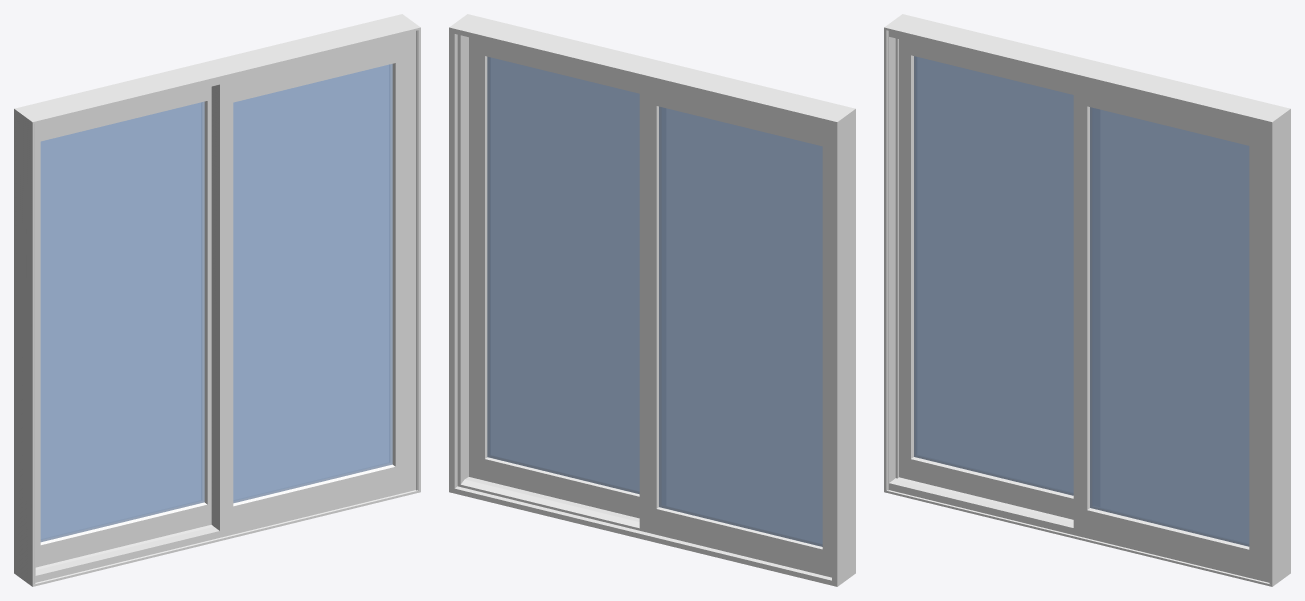
3 views of the same model, side by side, from view 1: azimuth 30°, elevation 25°; view 2: azimuth 150°, elevation 25°; view 3: azimuth 330°, elevation 25° (orthographic).
Parts seen in each view (by area): view 1: ProLine_Contemporary_Sliding_Door; view 2: ProLine_Contemporary_Sliding_Door; view 3: ProLine_Contemporary_Sliding_Door.
Boxes of the visible parts, <box> form: ProLine_Contemporary_Sliding_Door: <box>14,14,420,586</box>; ProLine_Contemporary_Sliding_Door: <box>449,14,855,586</box>; ProLine_Contemporary_Sliding_Door: <box>884,14,1290,586</box>.
Size of the model in its own units: 193 by 221 by 15.88.
